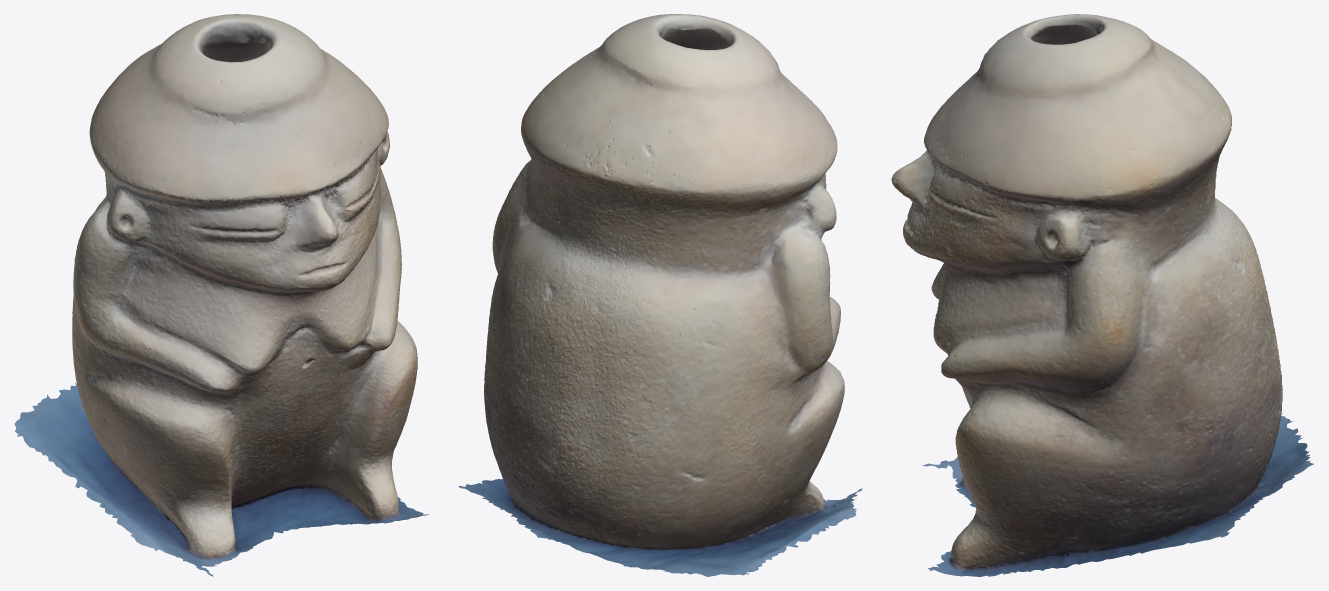
File: chorrera_anthropomorphic_vessel.glb
3 renders of one model, left to right at view 1: azimuth 30°, elevation 25°; view 2: azimuth 150°, elevation 25°; view 3: azimuth 270°, elevation 25°, orthographic. The views are drawn at different scales.
Parts seen in each view (by area): view 1: Object_2, Object_4, Object_3, Object_5; view 2: Object_4, Object_3, Object_2, Object_5; view 3: Object_3, Object_2, Object_4, Object_5.
Boxes of the visible parts, x1,y1,x2,y2 form: Object_2: [75, 14, 417, 502]; Object_4: [14, 22, 417, 576]; Object_3: [127, 49, 417, 357]; Object_5: [73, 93, 428, 566]; Object_4: [499, 15, 862, 576]; Object_3: [484, 49, 832, 517]; Object_2: [521, 14, 844, 485]; Object_5: [458, 67, 847, 542]; Object_3: [899, 64, 1282, 575]; Object_2: [892, 18, 1182, 552]; Object_4: [891, 14, 1313, 525]; Object_5: [928, 126, 1263, 576].
Size of the model in its own units: 0.1414 by 0.2036 by 0.1587.
